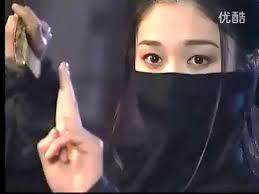OK: (131, 23, 224, 128)
